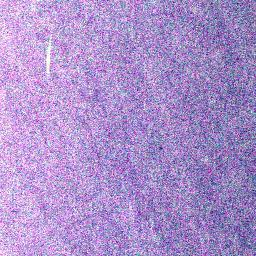Ship: (42, 35, 57, 75)
